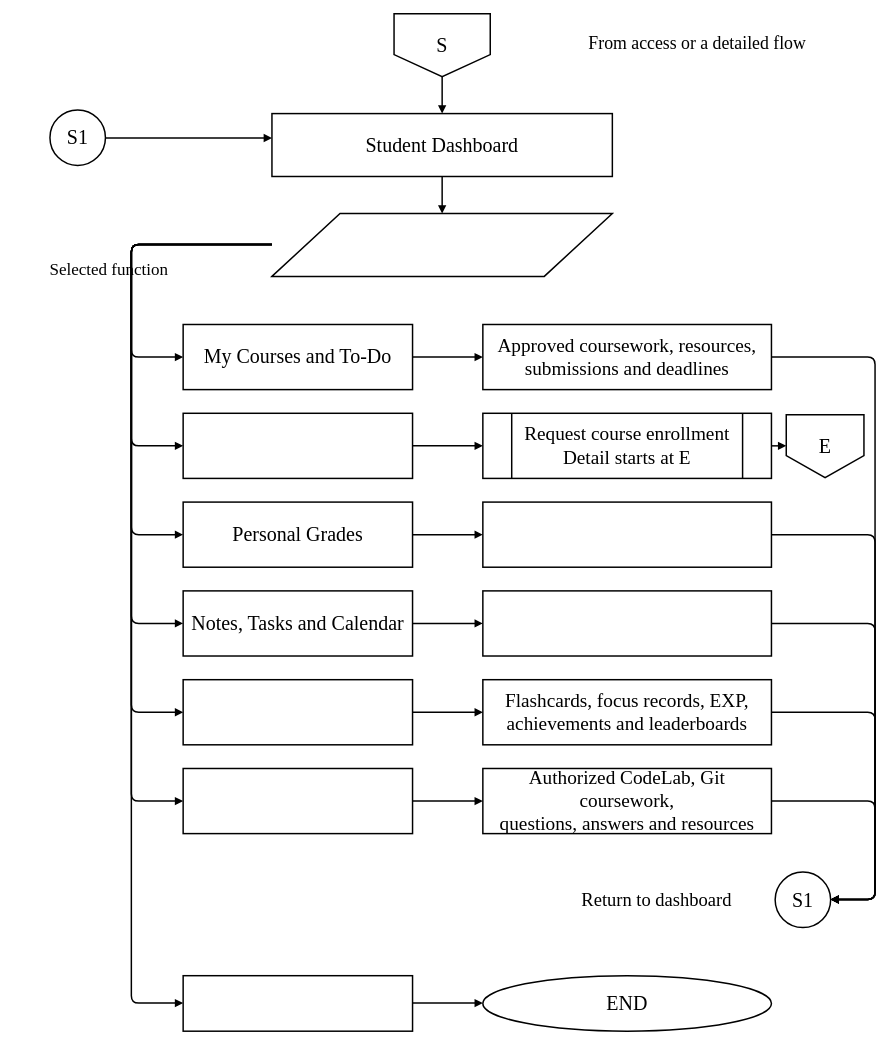
Some shapes in this 894 by 1044 pixel diagram are drawn without their labels. The centre of each missing label's shape, as x and y in pixels:
"Coding and Knowledge Exchange" belongs at [297,800].
"Join Courses" belongs at [297,445].
"Log out" belongs at [297,1003].
"Own grades and descriptive progress information" belongs at [627,534].
"Owned records; permitted events and private snapshots" belongs at [627,623].
"Select one permitted function" belongs at [442,244].
"Study and Progression" belongs at [297,712].
